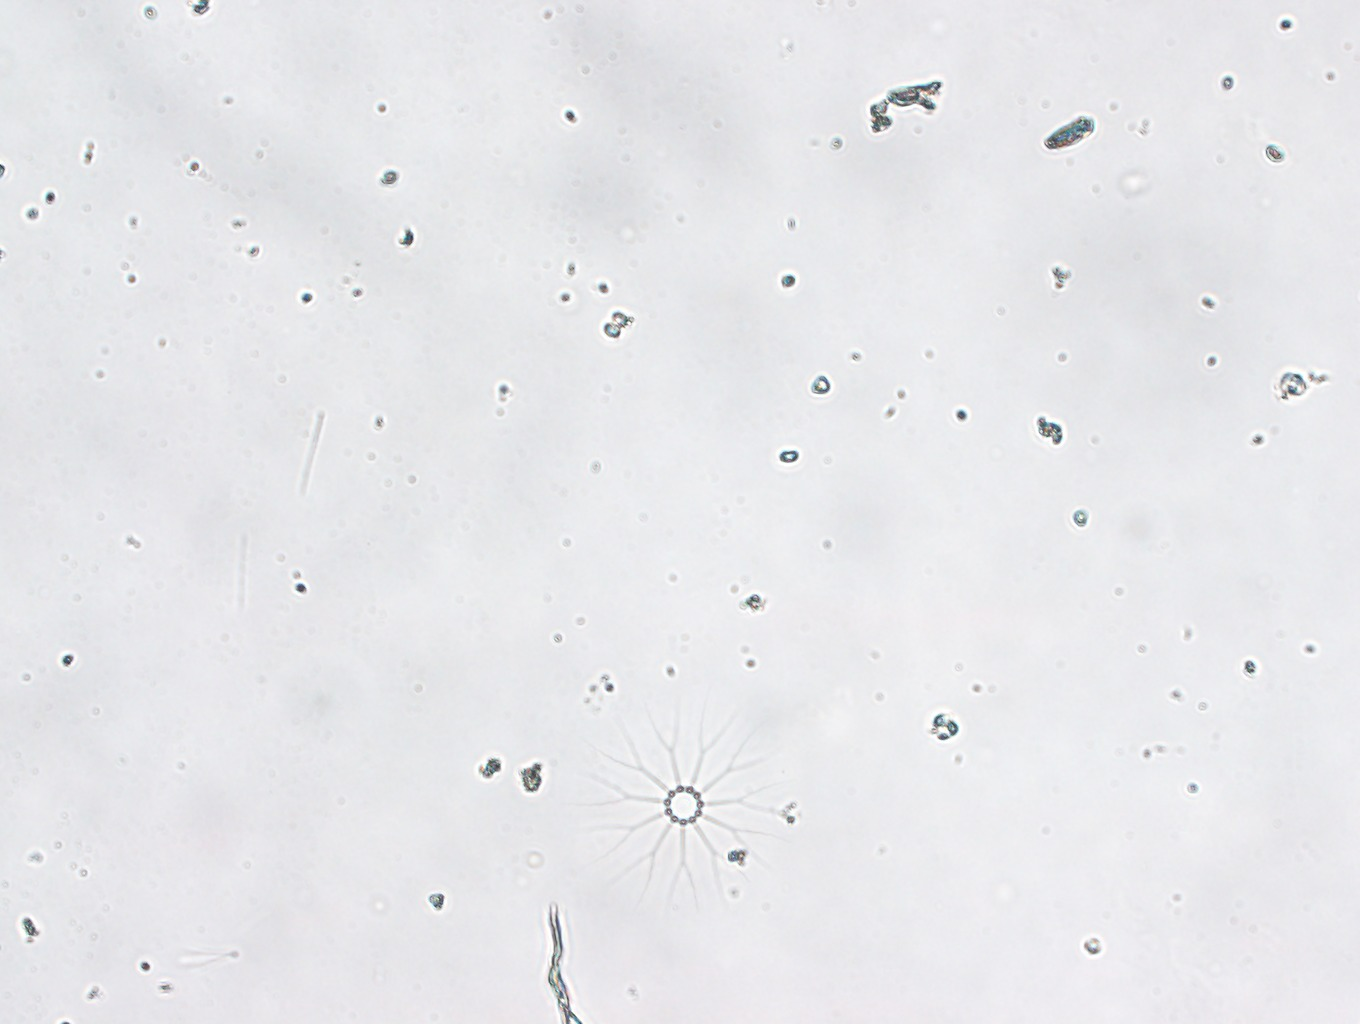bacteriastrum: (579, 698, 785, 908)
